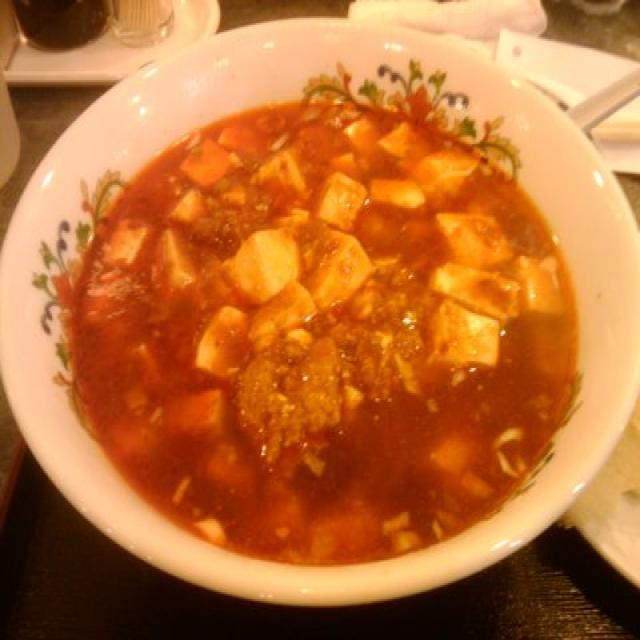豆腐料理: (0, 11, 640, 618)
